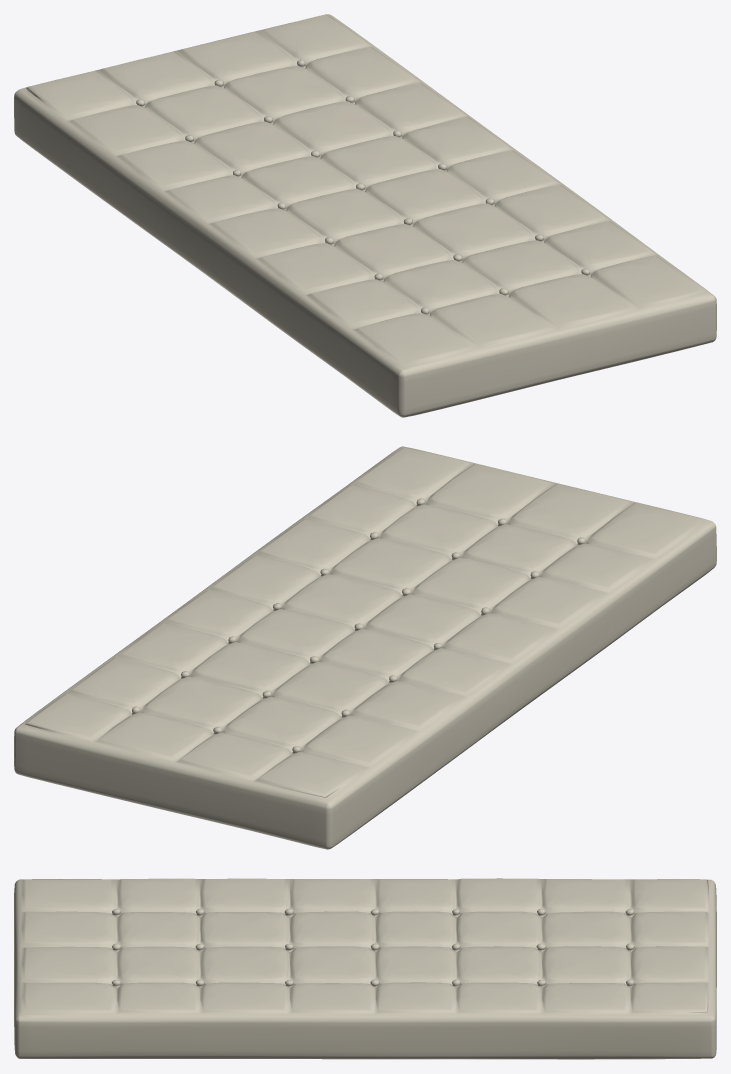
The model's file is A11A_MatressA.fbx.
3 views of the same model, one above another, from view 1: azimuth 30°, elevation 25°; view 2: azimuth 150°, elevation 25°; view 3: azimuth 270°, elevation 25° (orthographic). The views are drawn at different scales.
Parts seen in each view (by area): view 1: pCube38; view 2: pCube38; view 3: pCube38.
Part boxes in pixels (bbox=[...]): pCube38: bbox=[14, 14, 716, 417]; pCube38: bbox=[14, 446, 716, 849]; pCube38: bbox=[14, 878, 716, 1059].
Bounding box in the file's own units: 0.9052 × 0.1466 × 1.9.
